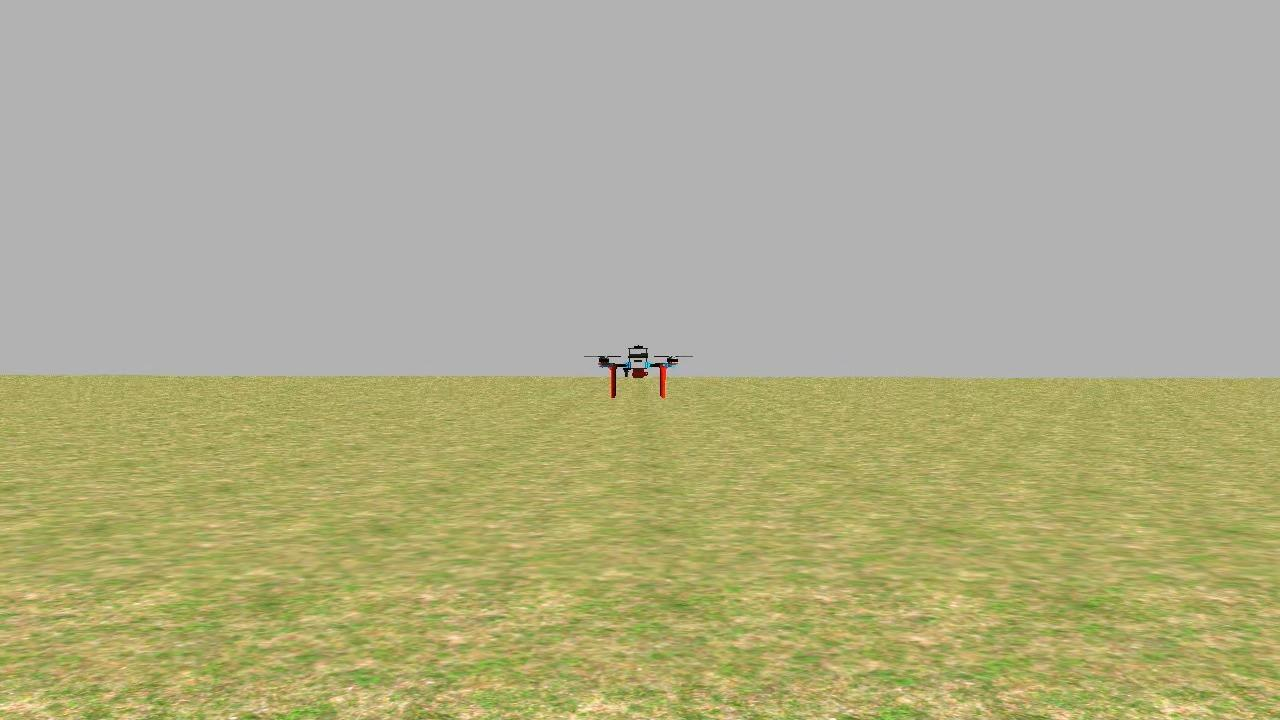UAV: (590, 330, 702, 404)
